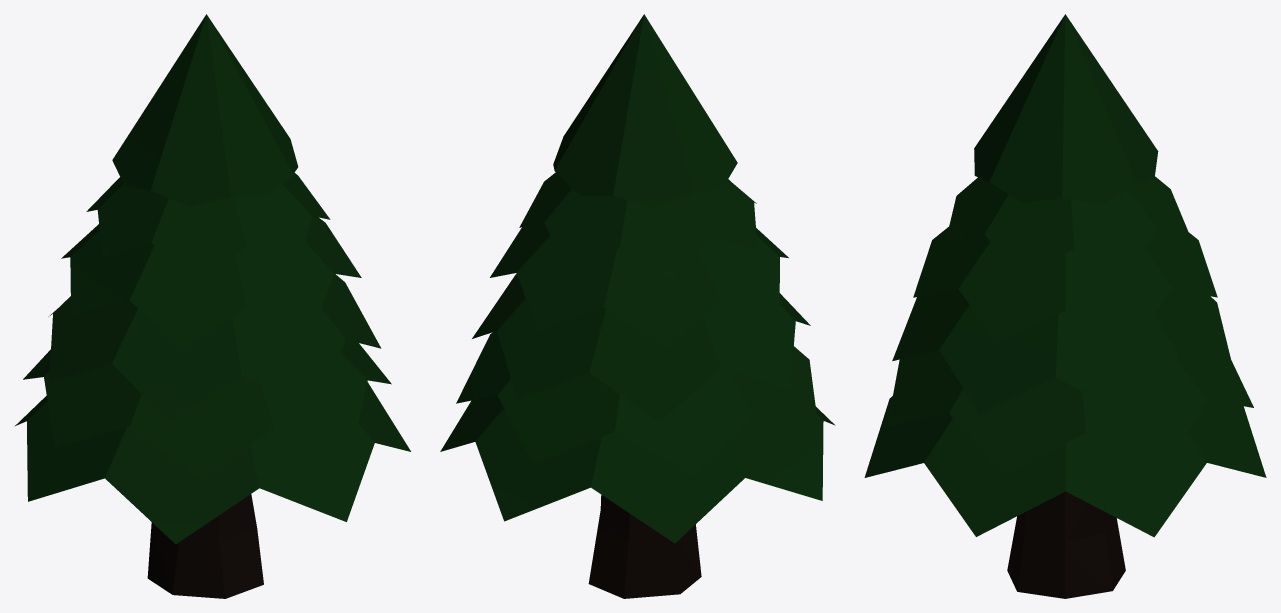
File: Evergreen_Tree.FBX
3 views of the same model, side by side, from view 1: azimuth 30°, elevation 25°; view 2: azimuth 150°, elevation 25°; view 3: azimuth 270°, elevation 25° (orthographic).
Visible parts, largest first — view 1: Evergreen_Trees; view 2: Evergreen_Trees; view 3: Evergreen_Trees.
Boxes of the visible parts, bbox=[...] form: Evergreen_Trees: bbox=[15, 14, 410, 598]; Evergreen_Trees: bbox=[440, 14, 835, 598]; Evergreen_Trees: bbox=[864, 14, 1266, 598].
Bounding box in the file's own units: 262 × 414 × 269.
